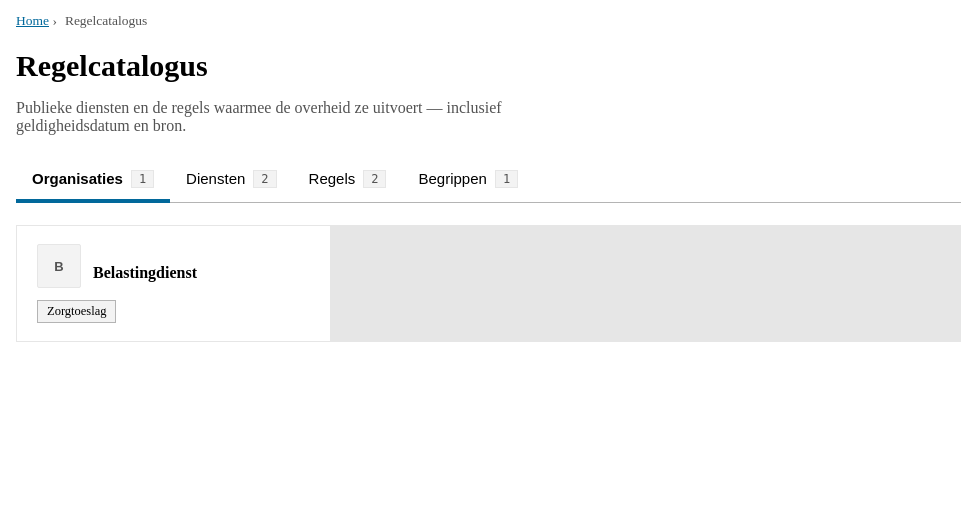
Test: Regelcatalogus › Rules tab: a service with count > 0 renders exactly that many rows once opened, and 0-rule services are absent
The width and height of the screenshot is (978, 530).
Click the tab "Regels 2": (347, 181) x1=292 y1=159 x2=402 y2=203
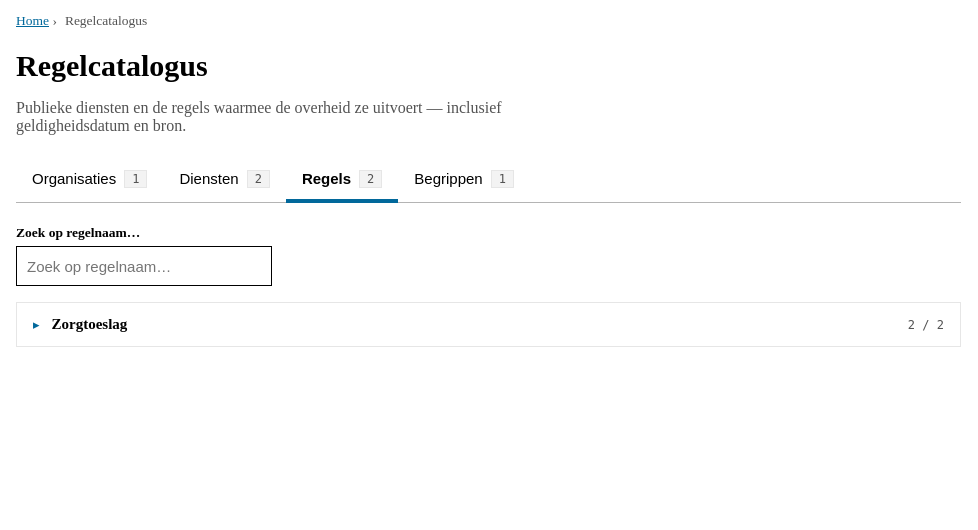
Click the text "Zorgtoeslag": (89, 325) x1=52 y1=316 x2=127 y2=333
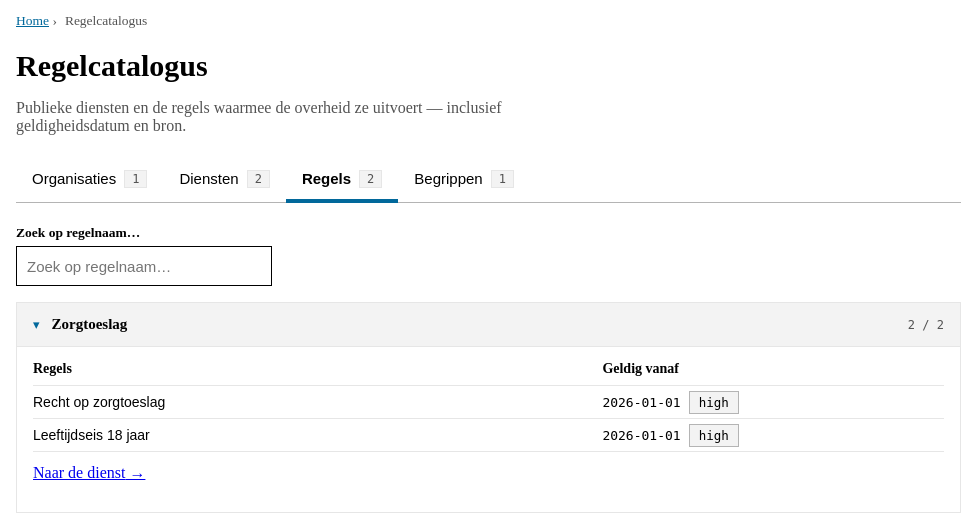
expect the text "Zorgtoeslag" shows "2 / 2": met, box x1=16 y1=302 x2=961 y2=513
expect the column heading "Recht op zorgtoeslag" is shown: met, box x1=33 y1=386 x2=602 y2=419
expect the column heading "Leeftijdseis 18 jaar" is shown: met, box x1=33 y1=419 x2=602 y2=452
